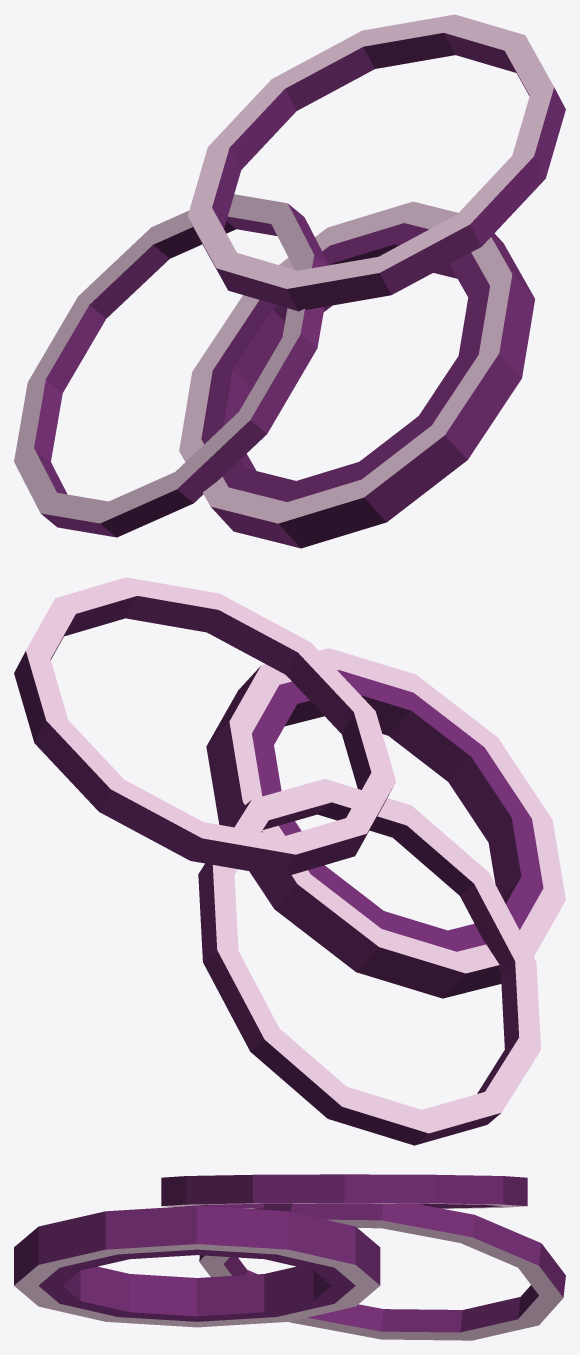
Rendered from Onion.fbx.
3 views of the same model, one above another, from view 1: azimuth 30°, elevation 25°; view 2: azimuth 150°, elevation 25°; view 3: azimuth 270°, elevation 25° (orthographic). The views are drawn at different scales.
Parts seen in each view (by area): view 1: Onion; view 2: Onion; view 3: Onion.
Boxes of the visible parts, x1=… form: Onion: x1=14, y1=14, x2=565, y2=548; Onion: x1=14, y1=577, x2=565, y2=1145; Onion: x1=14, y1=1174, x2=565, y2=1340.
Bounding box in the file's own units: 128 × 102 × 139.
